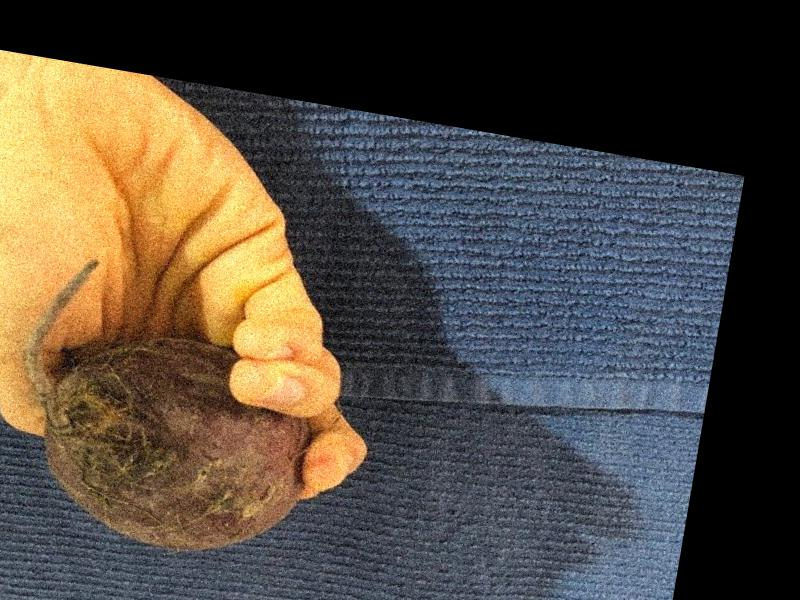Beet: (0, 247, 335, 566)
